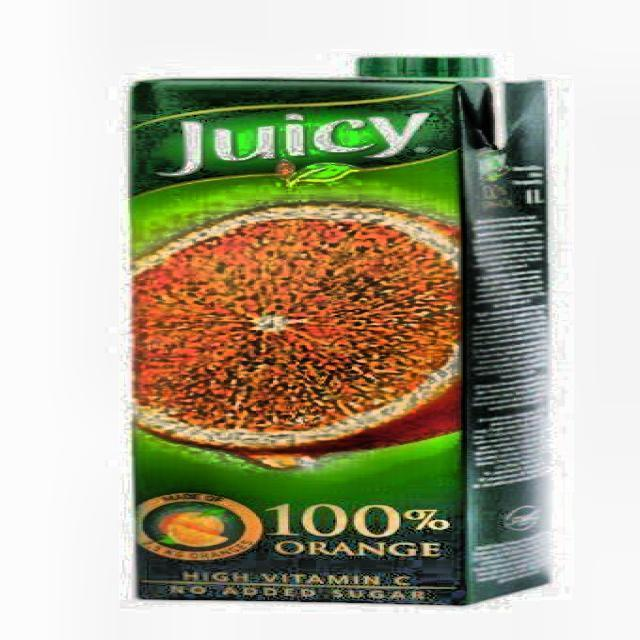cardboard: (128, 74, 552, 605)
